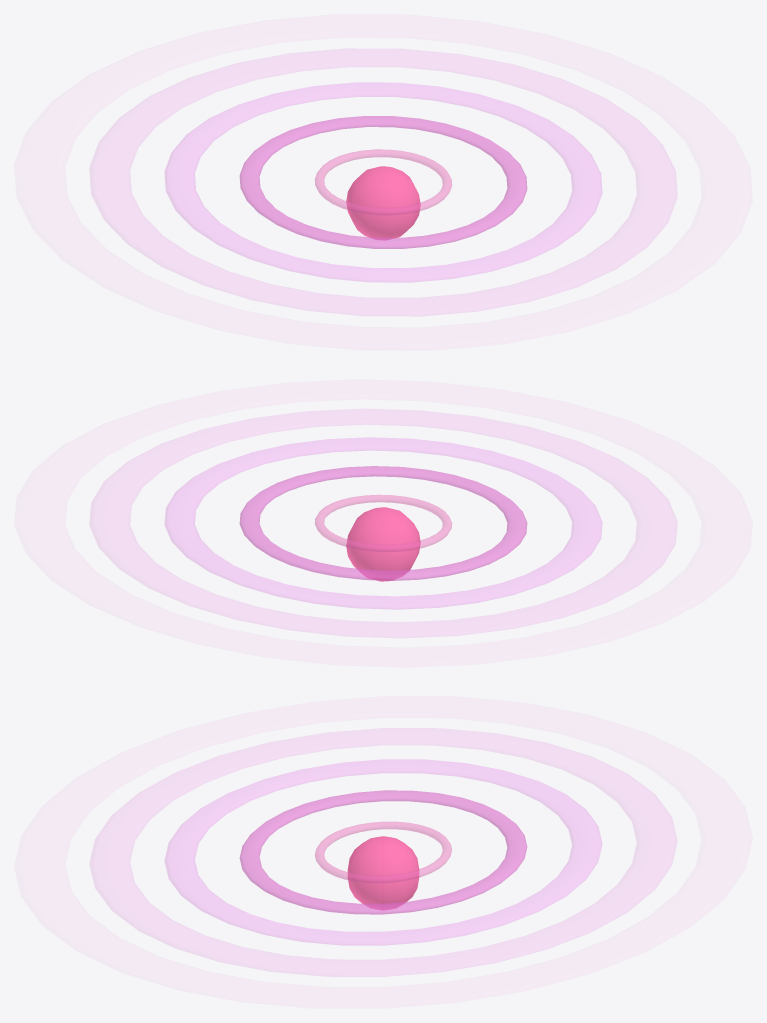
Rendered from pulse.glb.
The picture shows the model from 3 angles, top to bottom: view 1: azimuth 30°, elevation 25°; view 2: azimuth 150°, elevation 25°; view 3: azimuth 270°, elevation 25°; orthographic projection.
Bounding box in the file's own units: 1.18 × 0.1264 × 1.18.
